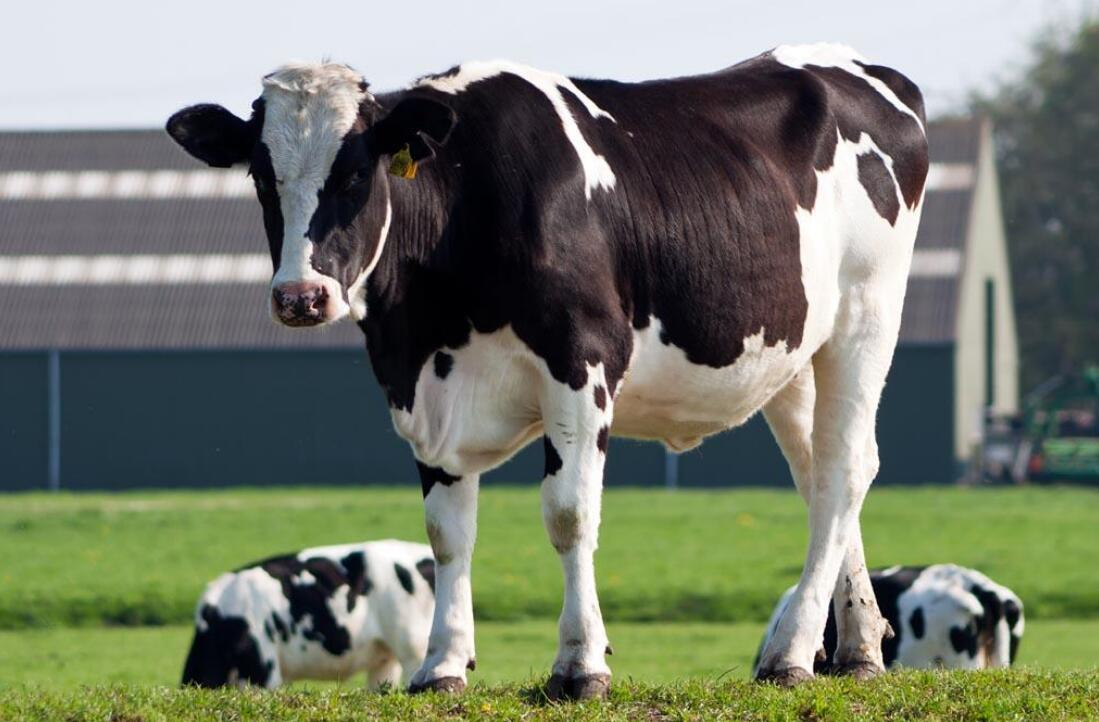MilkCow: (147, 18, 939, 686), (175, 536, 435, 698), (759, 557, 1046, 684)
